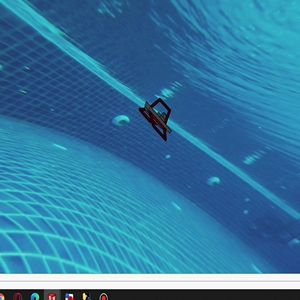submarine: (143, 99, 173, 139)
